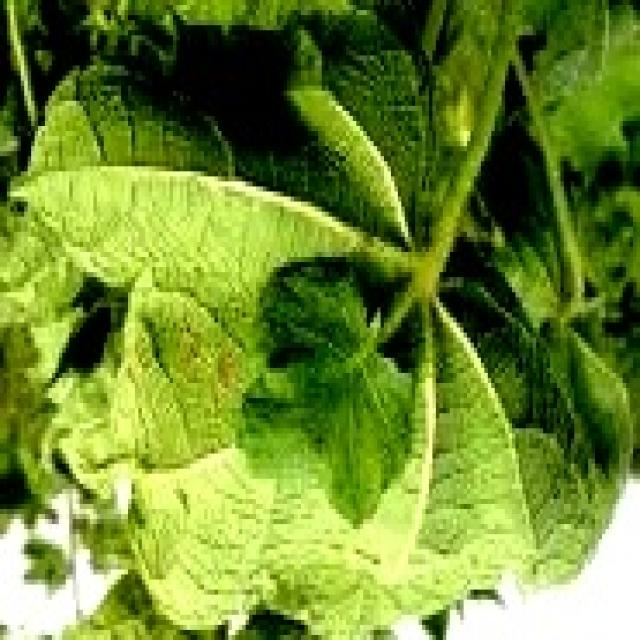Leaf Curl Virus: (116, 137, 437, 578)
